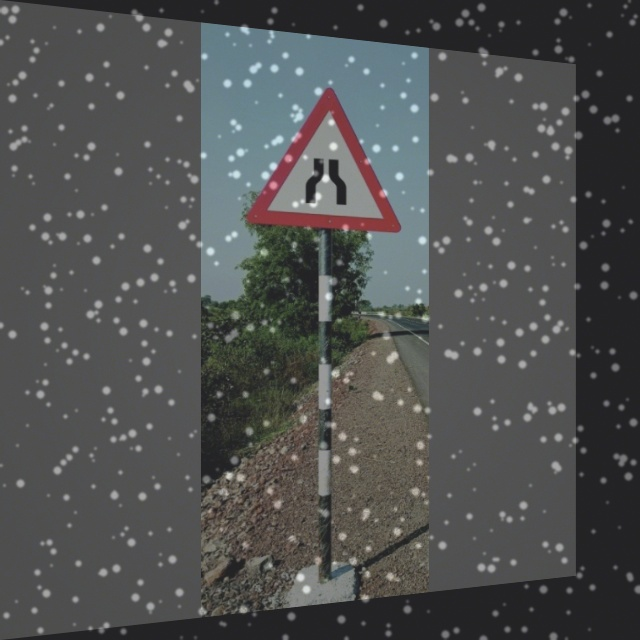Narrow_Road_Ahead: (250, 83, 402, 234)
